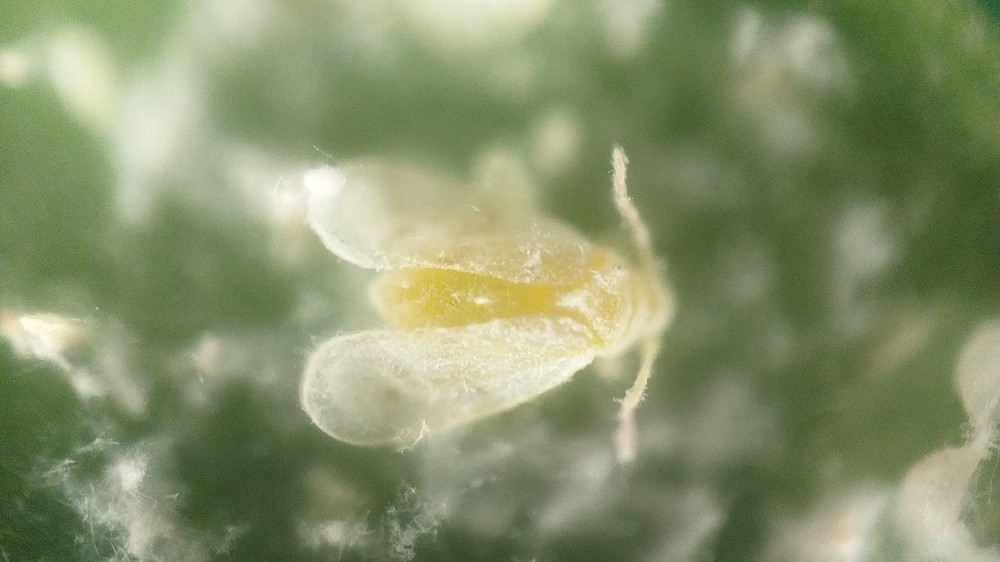Mosca Blanca: (275, 125, 707, 477)
